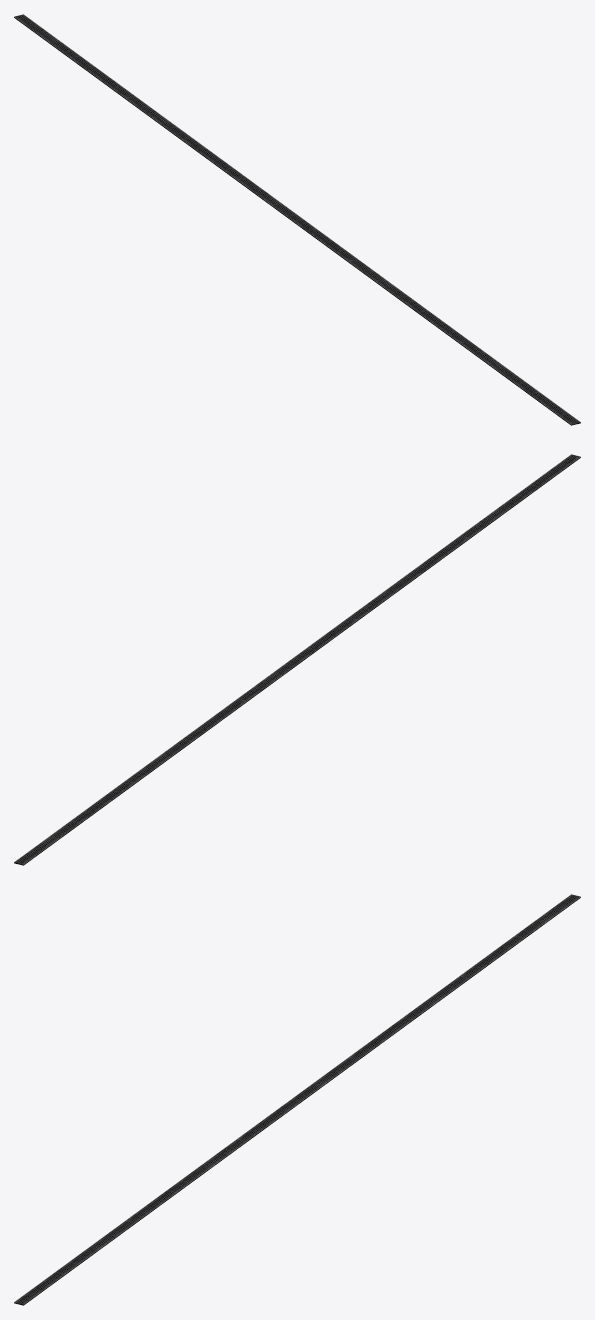
The model's file is jctGratingA.fbx.
3 views of the same model, one above another, from view 1: azimuth 30°, elevation 25°; view 2: azimuth 150°, elevation 25°; view 3: azimuth 330°, elevation 25° (orthographic).
Parts seen in each view (by area): view 1: jctGratingA; view 2: jctGratingA; view 3: jctGratingA.
Part boxes in pixels (<box>): jctGratingA: <box>14,14,580,425</box>; jctGratingA: <box>14,454,580,865</box>; jctGratingA: <box>14,894,580,1305</box>.
Size of the model in its own units: 10 by 1 by 1000.
